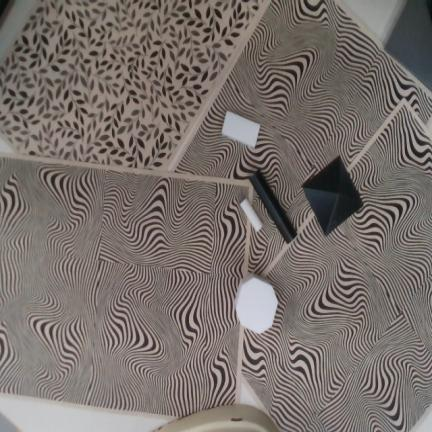Cilindro: (249, 169, 298, 245), (240, 198, 263, 231)
Paralelepipedo: (221, 110, 261, 148)
Piramide: (301, 155, 364, 236)
Prisma_hexagonal: (235, 274, 279, 333)
